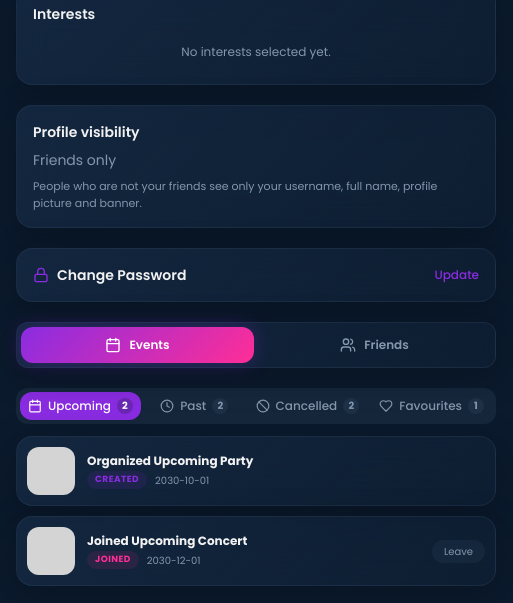
Test: ProfilePage: Events / Friends tabs and event sub-tabs › Favourites tab shows saved events only
(page scrolled)
Expected: the text "Organized Upcoming Party" is shown, [87,452,253,469]
Click the button with test id "tab-favourites".
click(432, 406)  # box [371,392,492,420]
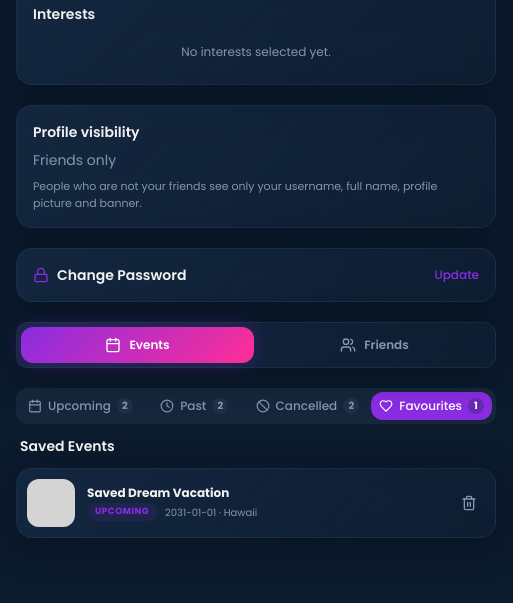
Now the heading "Saved Events" is shown, box [20,436,115,456]
Now the text "Saved Dream Vacation" is shown, box [87,484,229,501]
Now the text "Organized Upcoming Party" is gone
